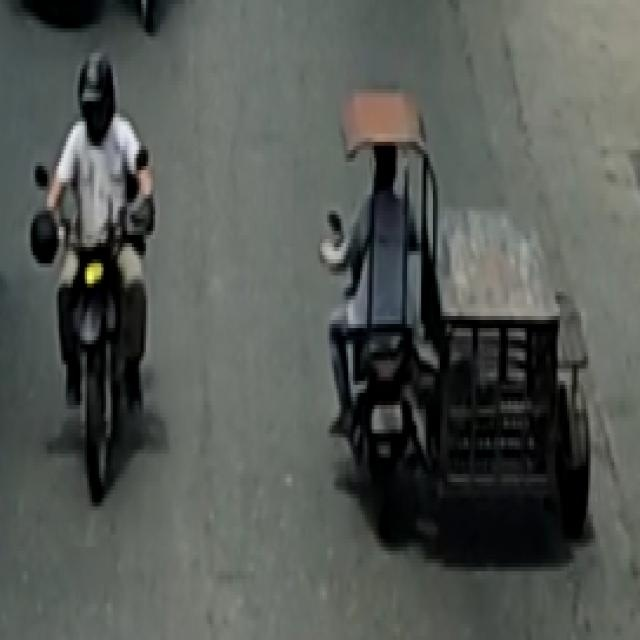Motorcycle: (29, 45, 162, 511)
